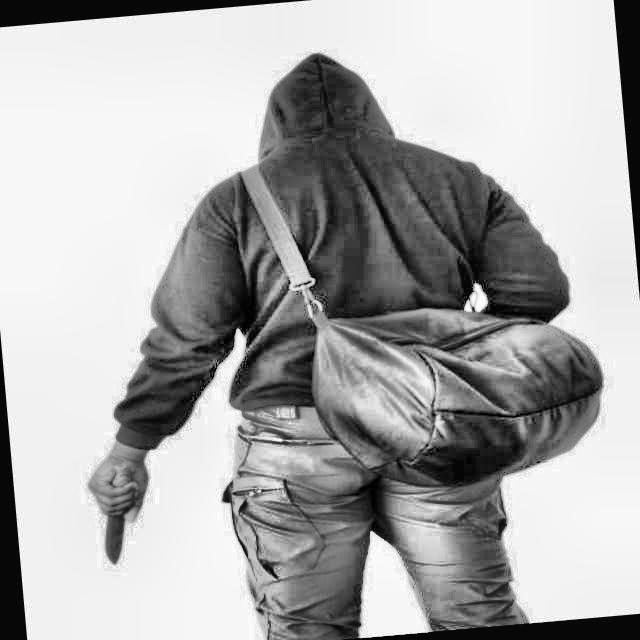pisau: (89, 454, 144, 576)
